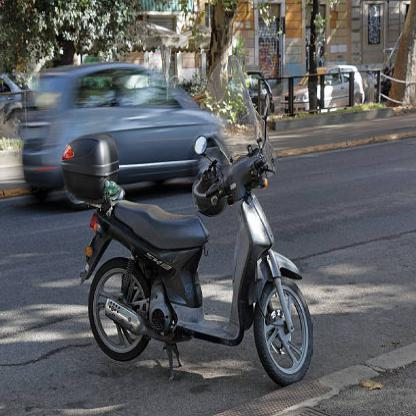Motorcycle: (54, 114, 321, 388)
